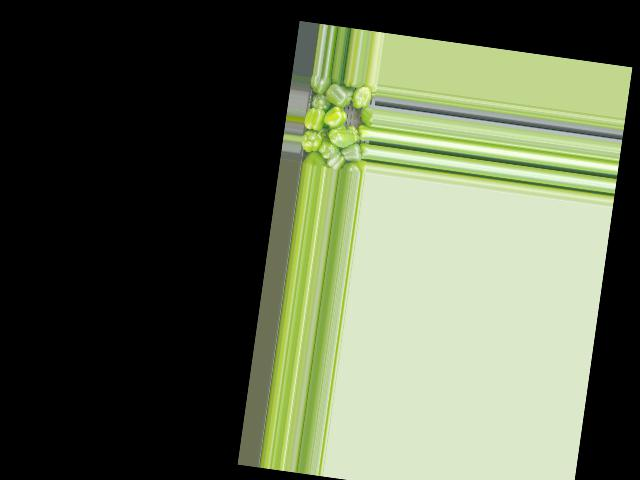bell_pepper: (307, 151, 328, 168)
